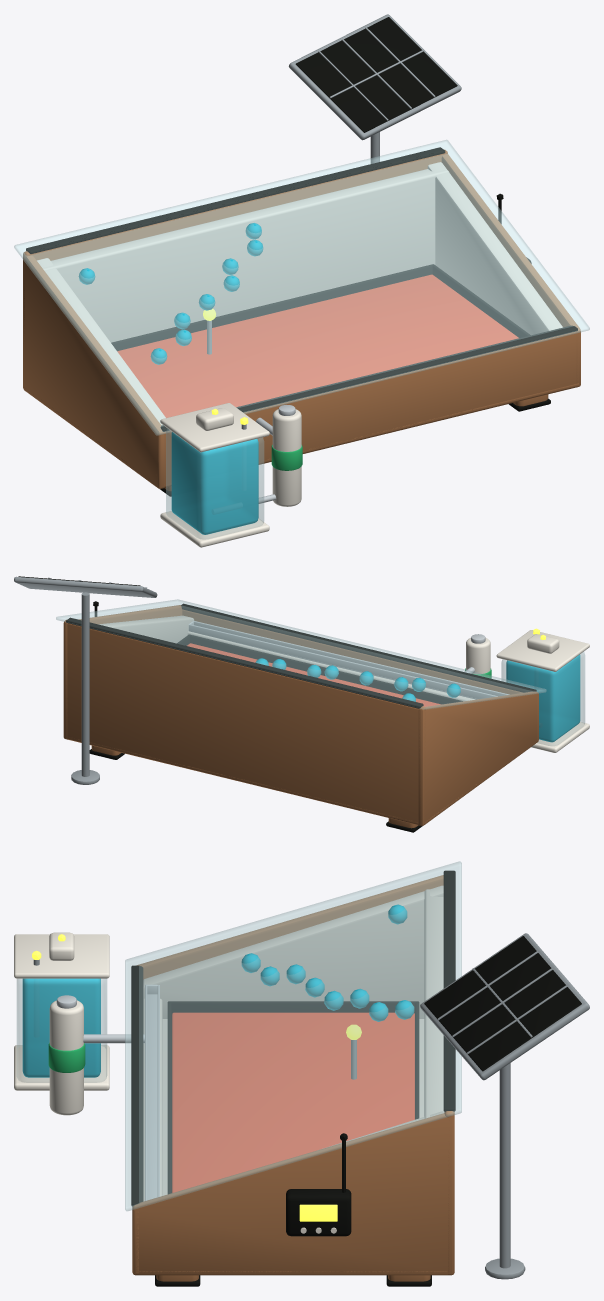
File: desol-module.glb
The picture shows the model from 3 angles, top to bottom: view 1: azimuth 30°, elevation 25°; view 2: azimuth 150°, elevation 25°; view 3: azimuth 270°, elevation 25°; orthographic projection. The views are drawn at different scales.
Parts seen in each view (by area): view 1: DS_Glass, DS_Frame, DS_Insulation, DS_Water_Brine, DS_Collector, DS_SolarPanel, DS_Water_Fresh, DS_Basin, DS_Mineralizer; view 2: DS_Frame, DS_Glass, DS_Collector, DS_Gutter, DS_Water_Fresh, DS_SolarPanel, DS_Insulation, DS_Basin, DS_Mineralizer, DS_Water_Brine, DS_Legs, DS_Sensor_Level; view 3: DS_Glass, DS_Frame, DS_Water_Brine, DS_Insulation, DS_SolarPanel, DS_Collector, DS_Water_Fresh, DS_Mineralizer, DS_Basin, DS_Gutter, DS_Electronics, DS_Legs (+1 smaller).
Boxes of the visible parts, bbox=[...] form: DS_Glass: bbox=[14, 139, 589, 435]; DS_Frame: bbox=[23, 147, 580, 488]; DS_Insulation: bbox=[37, 162, 562, 425]; DS_Water_Brine: bbox=[117, 274, 518, 417]; DS_Collector: bbox=[160, 403, 269, 547]; DS_SolarPanel: bbox=[288, 14, 461, 163]; DS_Water_Fresh: bbox=[171, 432, 258, 534]; DS_Basin: bbox=[111, 264, 530, 350]; DS_Mineralizer: bbox=[258, 405, 302, 506]; DS_Frame: bbox=[63, 603, 538, 825]; DS_Glass: bbox=[56, 599, 546, 709]; DS_Collector: bbox=[496, 630, 589, 752]; DS_Gutter: bbox=[188, 621, 509, 699]; DS_Water_Fresh: bbox=[506, 654, 580, 742]; DS_SolarPanel: bbox=[14, 576, 157, 784]; DS_Insulation: bbox=[99, 615, 474, 701]; DS_Basin: bbox=[177, 634, 462, 704]; DS_Mineralizer: bbox=[465, 634, 491, 678]; DS_Water_Brine: bbox=[187, 643, 440, 706]; DS_Legs: bbox=[89, 745, 422, 832]; DS_Sensor_Level: bbox=[527, 634, 559, 653]; DS_Glass: bbox=[125, 861, 461, 1211]; DS_Frame: bbox=[131, 870, 455, 1275]; DS_Water_Brine: bbox=[172, 1012, 414, 1192]; DS_Insulation: bbox=[143, 885, 444, 1201]; DS_SolarPanel: bbox=[420, 933, 589, 1279]; DS_Collector: bbox=[14, 934, 109, 1090]; DS_Water_Fresh: bbox=[22, 978, 100, 1077]; DS_Mineralizer: bbox=[48, 995, 85, 1115]; DS_Basin: bbox=[167, 1001, 419, 1194]; DS_Gutter: bbox=[145, 984, 159, 1200]; DS_Electronics: bbox=[286, 1189, 351, 1236]; DS_Legs: bbox=[155, 1275, 431, 1286].
Size of the model in its own units: 1.24 by 0.6482 by 1.14.
